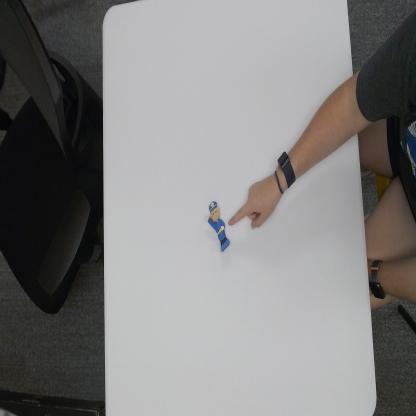Arm: (297, 58, 362, 180)
Hand: (231, 172, 278, 233)
